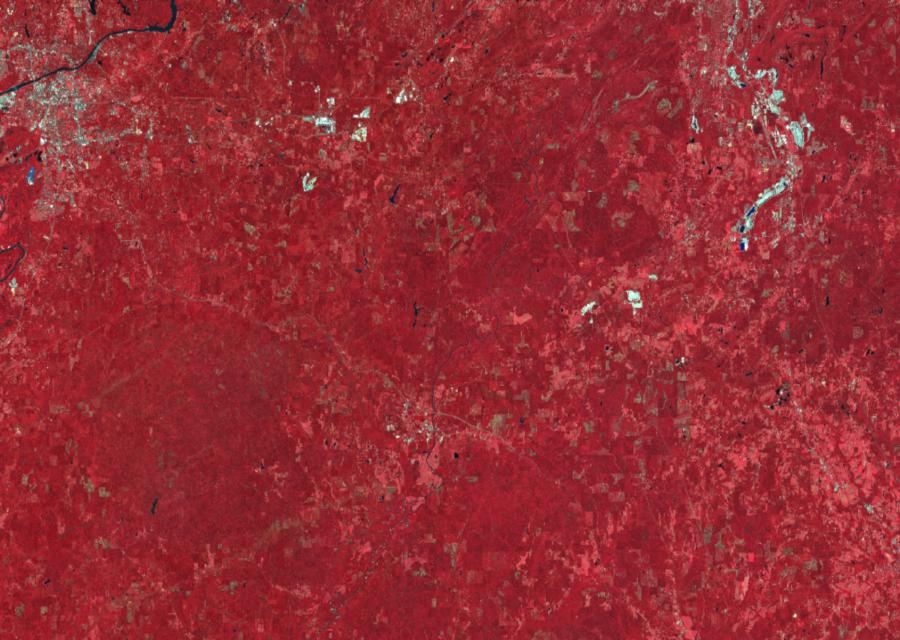Potential Lime Manufacturing Facility: (741, 176, 792, 255), (766, 91, 805, 150)
